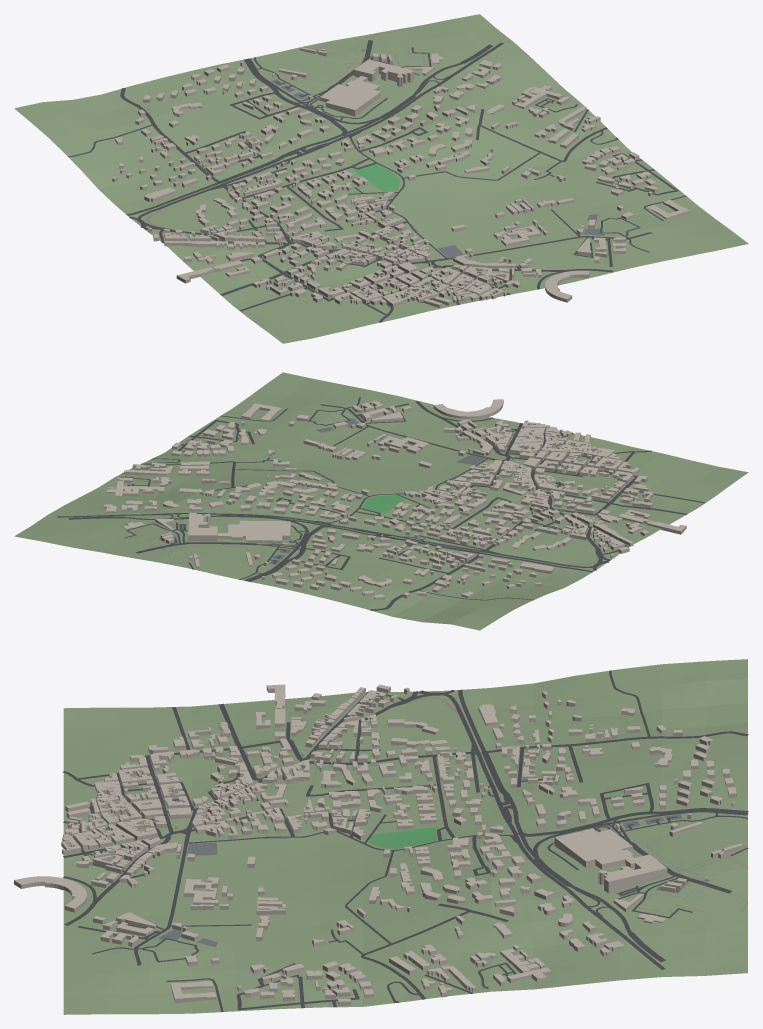
File: parco_gandhi_catania.glb
3 renders of one model, top to bottom at view 1: azimuth 30°, elevation 25°; view 2: azimuth 150°, elevation 25°; view 3: azimuth 270°, elevation 25°, orthographic. The views are drawn at different scales.
Parts seen in each view (by area): view 1: Terrain-col, Building_156632581, Building_152697982, Park_27104051, Building_761107212; view 2: Terrain-col, Building_156632581, Building_152697982, Building_761107212, Park_27104051; view 3: Terrain-col, Building_156632581, Building_152697982, Building_761107212, Park_27104051, Building_91435533, Building_205935883, NAV_Road_27551073, NAV_Road_1016922337.
Boxes of the visible parts, x1,y1,x2,y2 form: Terrain-col: (14,14,748,343); Building_156632581: (319,76,381,116); Building_152697982: (353,59,414,86); Park_27104051: (352,164,400,191); Building_761107212: (545,270,589,302); Terrain-col: (14,372,748,630); Building_156632581: (217,520,290,543); Building_152697982: (188,512,217,541); Building_761107212: (433,399,503,418); Park_27104051: (362,495,404,514); Terrain-col: (63,659,747,1014); Building_156632581: (554,828,634,869); Building_152697982: (598,854,667,893); Building_761107212: (14,876,86,912); Park_27104051: (368,826,439,848); Building_91435533: (170,981,216,1003); Building_205935883: (183,879,218,905); NAV_Road_27551073: (487,731,748,752); NAV_Road_1016922337: (533,810,747,858).
Bounding box in the file's own units: 1147 × 118 × 1181.
